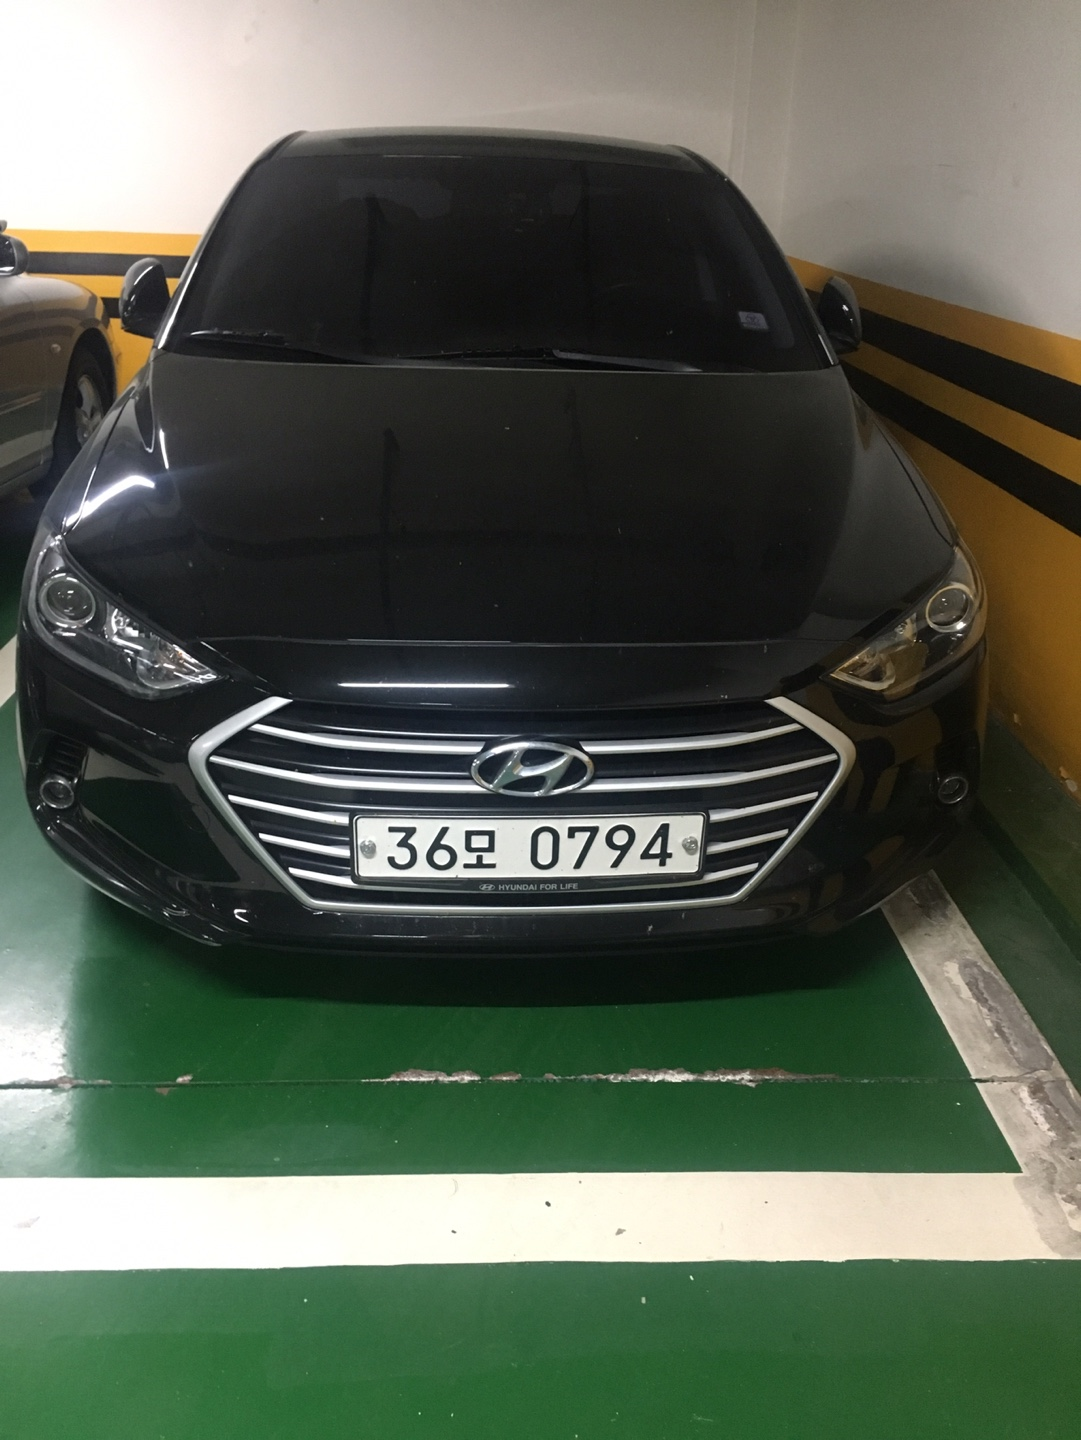car: (0, 231, 164, 508)
